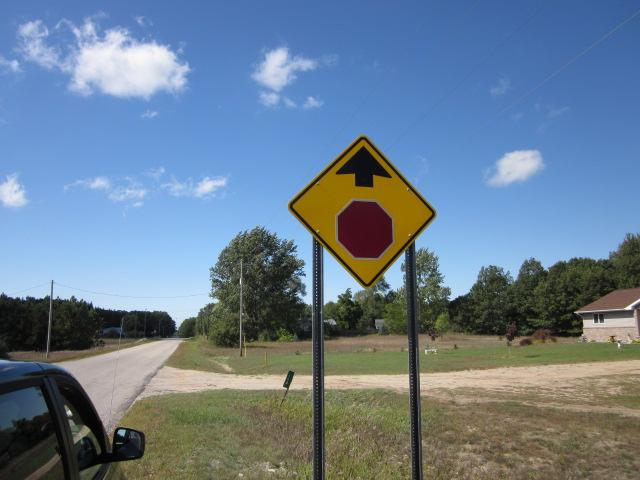stop: (334, 200, 396, 263)
warning: (290, 132, 439, 289)
